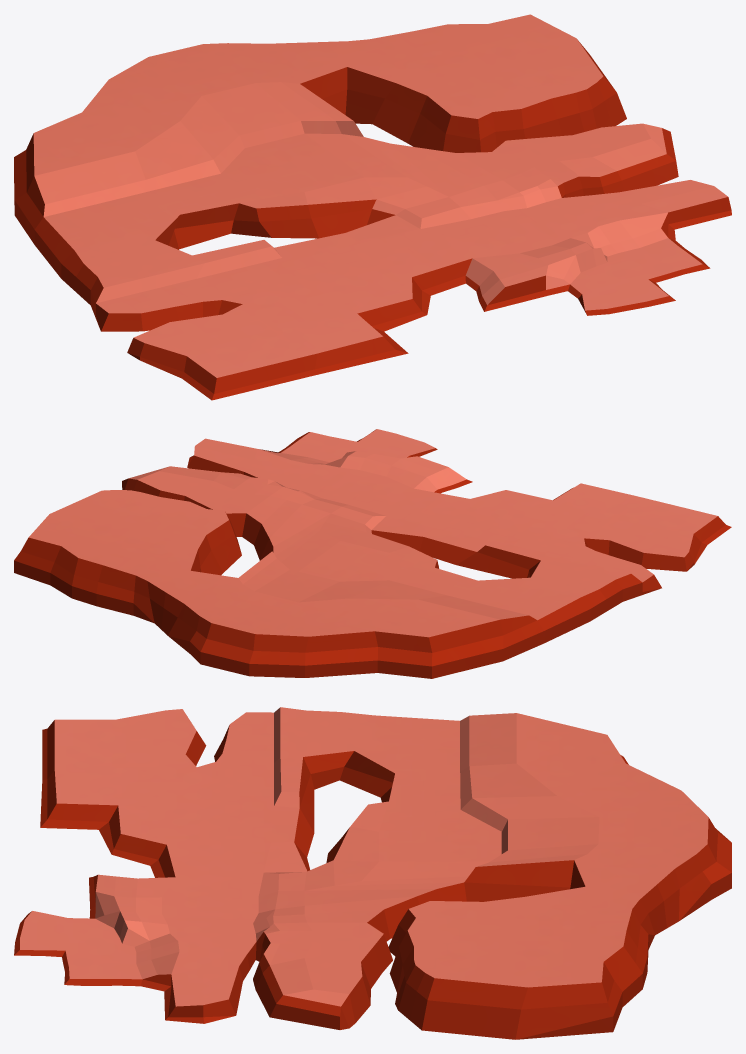
The model's file is hell_idle_base 3.fbx.
3 renders of one model, top to bottom at view 1: azimuth 30°, elevation 25°; view 2: azimuth 150°, elevation 25°; view 3: azimuth 270°, elevation 25°, orthographic. The views are drawn at different scales.
Parts seen in each view (by area): view 1: Plane; view 2: Plane; view 3: Plane.
Part boxes in pixels (<box>): Plane: <box>14,14,731,400</box>; Plane: <box>14,429,731,678</box>; Plane: <box>14,707,731,1039</box>.
Bounding box in the file's own units: 31672 × 30281 × 2405.
Materials: 1 (1 with a texture image).
